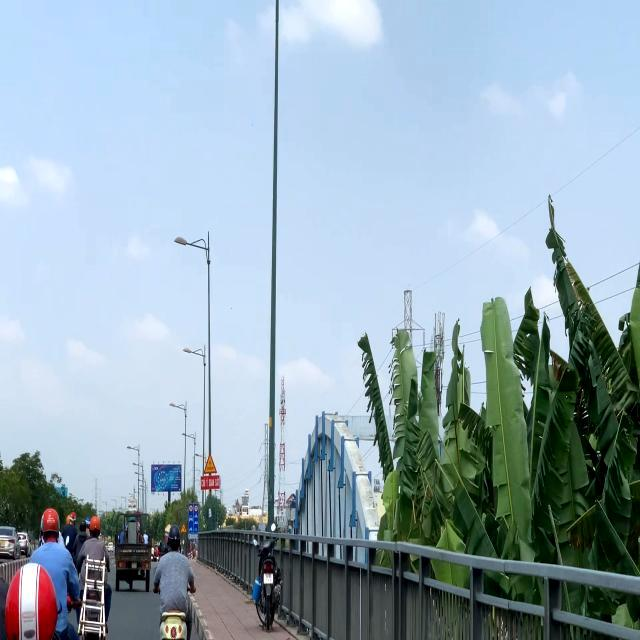Di cham: (204, 452, 218, 474)
